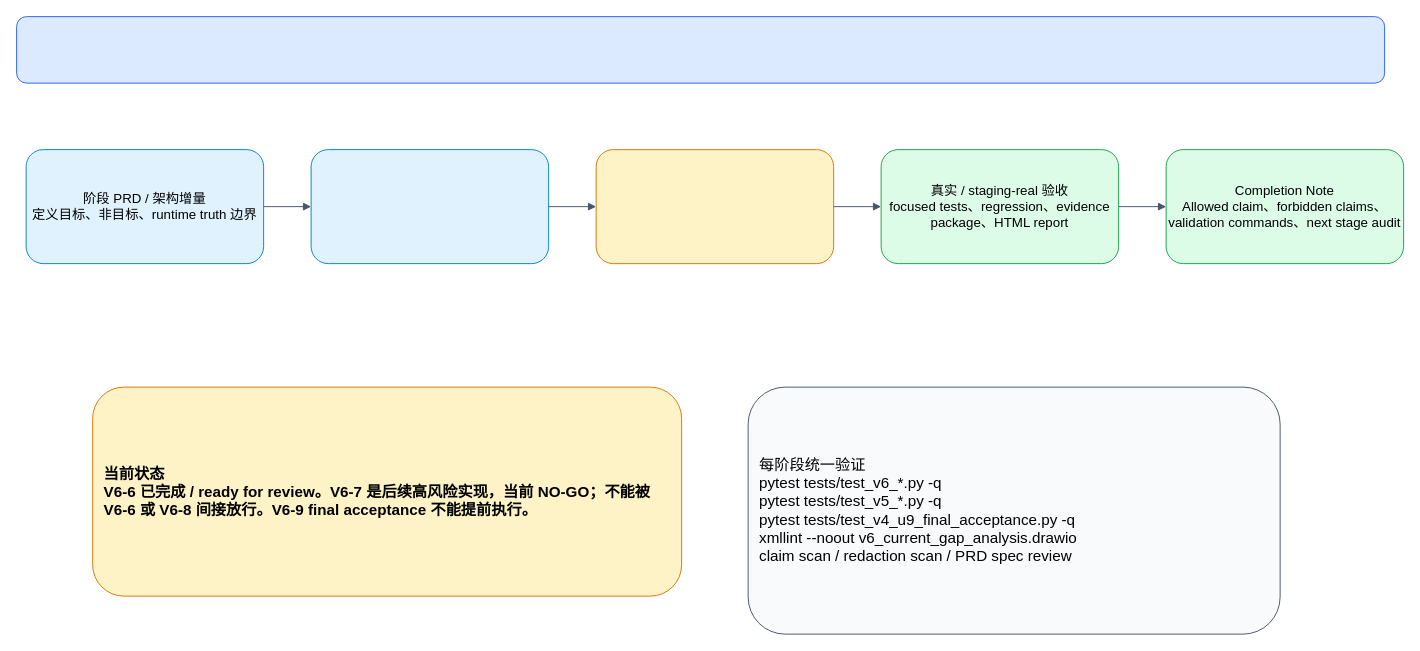
The diagram is 1420 pixels wide and 651 high, and some of its shapes have lost their labels. Here are the shapes that lost their labels. From the top down, the box of each, then its label:
(16, 16, 1385, 83): V6 开发及验收流程
(310, 149, 549, 264): 实现前文档审计 PRD drift / false green / test matrix / evidence plan
(595, 149, 834, 264): 进入实现 仅在审计无 P0/P1 且高风险人工决策已记录时进入
